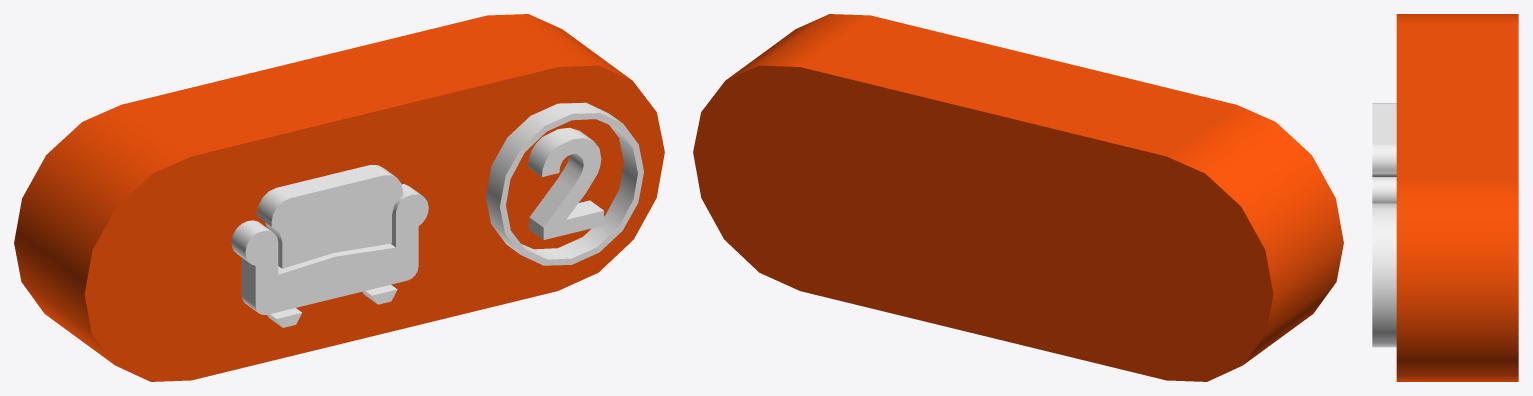
The model's file is Couch_2.fbx.
3 views of the same model, side by side, from view 1: azimuth 30°, elevation 25°; view 2: azimuth 150°, elevation 25°; view 3: azimuth 270°, elevation 25° (orthographic). The views are drawn at different scales.
Parts seen in each view (by area): view 1: Orange, Object_1, Object_3, Object_11, Object_12, Object_7; view 2: Orange; view 3: Orange, Object_11, Object_3, Object_7, Object_1.
Part boxes in pixels (x1,y1,x2,y2): Orange: [14, 14, 664, 381]; Object_1: [231, 184, 428, 314]; Object_3: [257, 165, 402, 268]; Object_11: [485, 102, 643, 265]; Object_12: [527, 127, 603, 239]; Object_7: [257, 165, 402, 267]; Orange: [693, 14, 1343, 381]; Orange: [1396, 14, 1518, 381]; Object_11: [1372, 203, 1396, 347]; Object_3: [1372, 103, 1396, 176]; Object_7: [1372, 105, 1396, 176]; Object_1: [1372, 177, 1396, 203].
Bounding box in the file's own units: 4.75 × 1.2 × 1.75.
